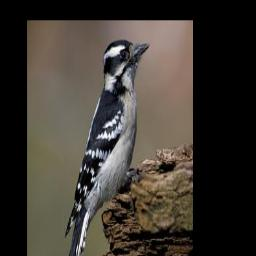Woodpecker: (64, 35, 150, 256)
